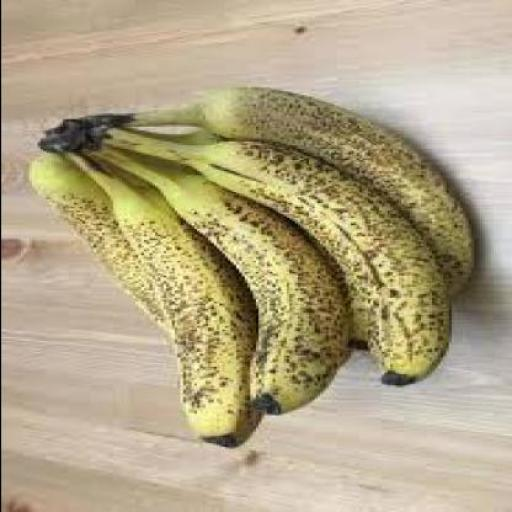biodegradable: (44, 115, 448, 383), (31, 128, 344, 414), (76, 86, 470, 302), (36, 130, 263, 447), (22, 149, 163, 331)
